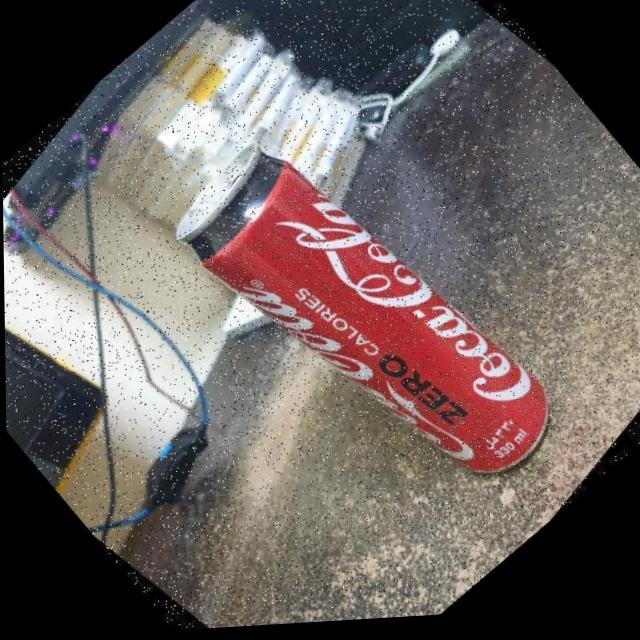metal: (153, 150, 547, 621)
